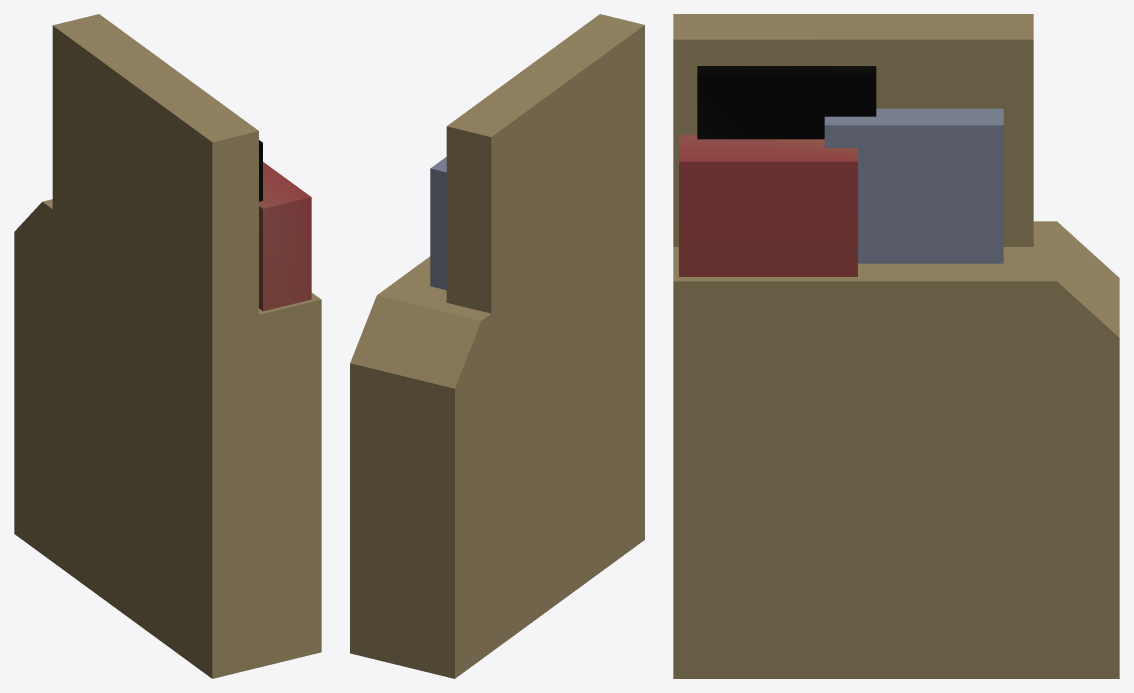
The model's file is Documents.fbx.
3 renders of one model, left to right at view 1: azimuth 30°, elevation 25°; view 2: azimuth 150°, elevation 25°; view 3: azimuth 270°, elevation 25°, orthographic. The views are drawn at different scales.
Parts seen in each view (by area): view 1: Cube; view 2: Cube; view 3: Cube.
Boxes of the visible parts, bbox=[...] form: Cube: bbox=[14, 14, 321, 678]; Cube: bbox=[350, 14, 644, 678]; Cube: bbox=[673, 14, 1119, 678].
Bounding box in the file's own units: 64.73 × 304 × 203.
